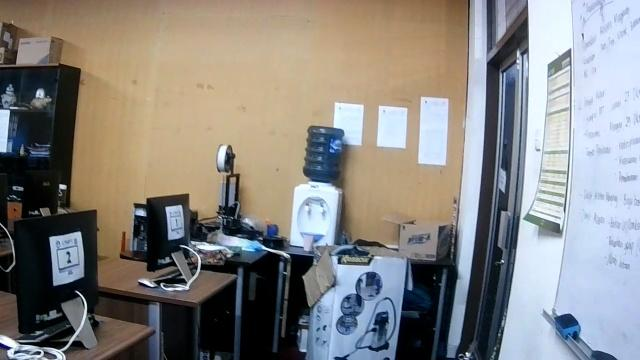AIO PC-Monitor-TV: (12, 208, 100, 349), (144, 192, 194, 285)
Dispenser: (288, 122, 346, 247)
Meja: (97, 257, 238, 324)
Whiteboard: (541, 0, 639, 358)
